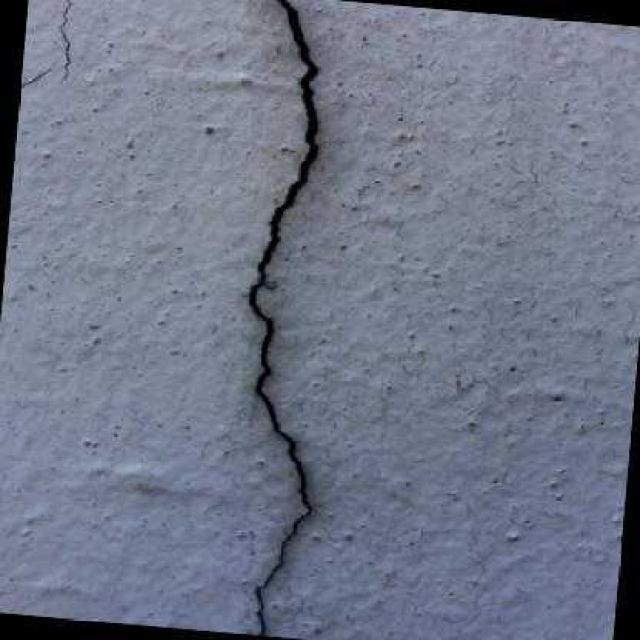D00: (248, 0, 318, 636), (58, 0, 70, 80)
